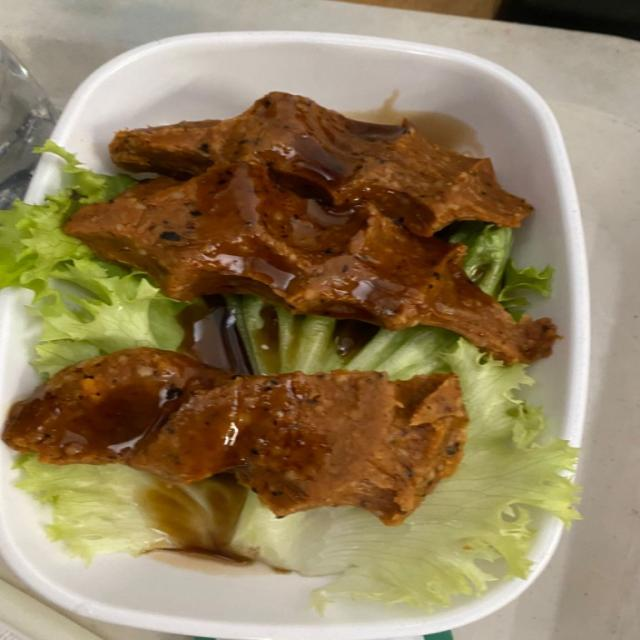yan_yemek: (49, 40, 558, 599)
